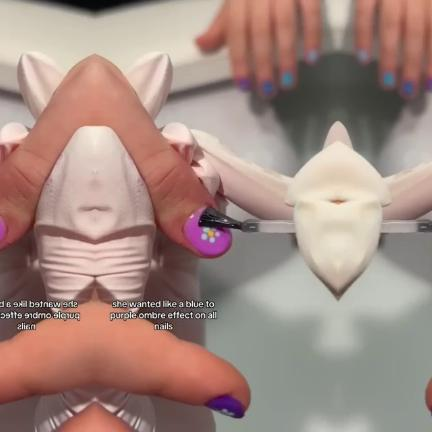Nail: (182, 209, 230, 256), (203, 395, 244, 419), (0, 217, 6, 242), (430, 406, 432, 417)
